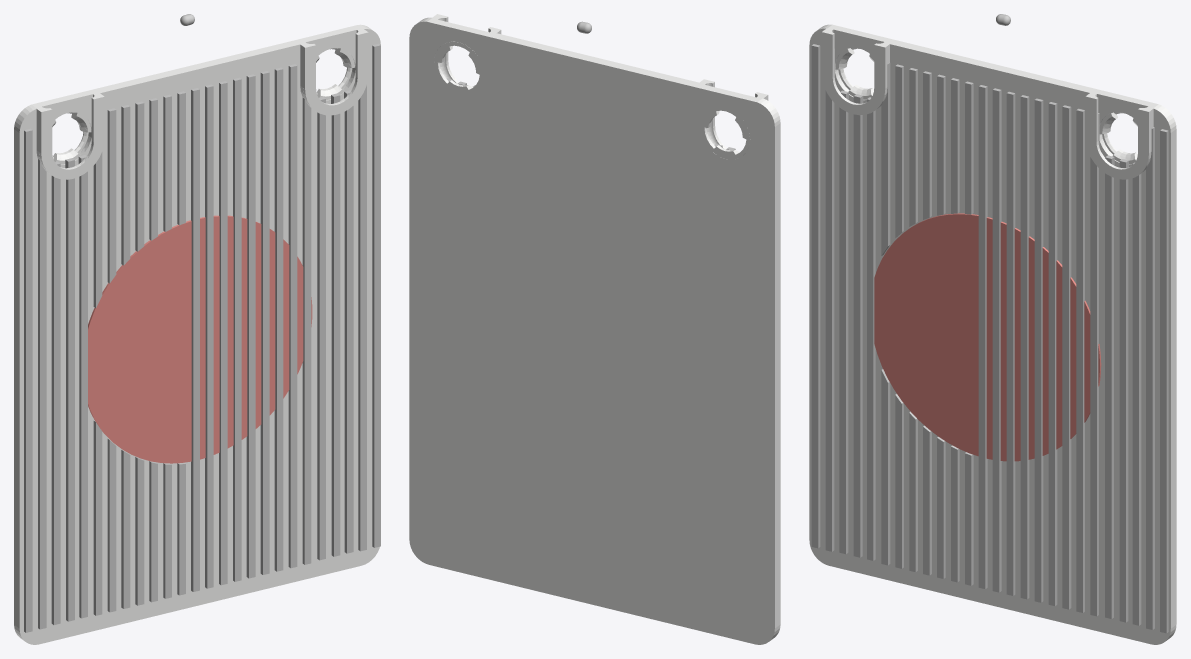
File: tascabile_cover_only_v1.glb
3 views of the same model, side by side, from view 1: azimuth 30°, elevation 25°; view 2: azimuth 150°, elevation 25°; view 3: azimuth 330°, elevation 25° (orthographic).
Parts seen in each view (by area): view 1: Body1, Body41, Body22, Body6, Body11 (1), Body27, Body10 (1), Body13, Body7, Body23, Body26, Body4 (1) (+31 smaller); view 2: Body1; view 3: Body1, Body41, Body4 (1), Body6, Body11 (1), Body27, Body23, Body7, Body10 (1), Body26, Body20, Body13 (+31 smaller).
Part boxes in pixels (x1,y1,x2,y2): Body1: (14, 24, 380, 644); Body41: (88, 220, 191, 463); Body22: (288, 64, 297, 568); Body6: (274, 67, 283, 571); Body11 (1): (260, 71, 269, 574); Body27: (246, 74, 255, 578); Body10 (1): (205, 84, 213, 588); Body13: (372, 43, 380, 547); Body7: (219, 81, 227, 585); Body23: (233, 77, 241, 581); Body26: (191, 88, 199, 591); Body4 (1): (24, 128, 32, 632); Body1: (409, 14, 780, 644); Body1: (809, 24, 1176, 644); Body41: (874, 213, 978, 456); Body4 (1): (811, 44, 820, 548); Body6: (1062, 105, 1071, 609); Body11 (1): (1048, 102, 1057, 605); Body27: (1034, 98, 1043, 602); Body23: (1020, 95, 1029, 599); Body7: (1006, 91, 1015, 595); Body10 (1): (992, 88, 1001, 592); Body26: (978, 85, 987, 589); Body20: (825, 49, 834, 551); Body13: (1160, 129, 1168, 633).
Bounding box in the file's own units: 0.074 × 0.1136 × 0.0073.
